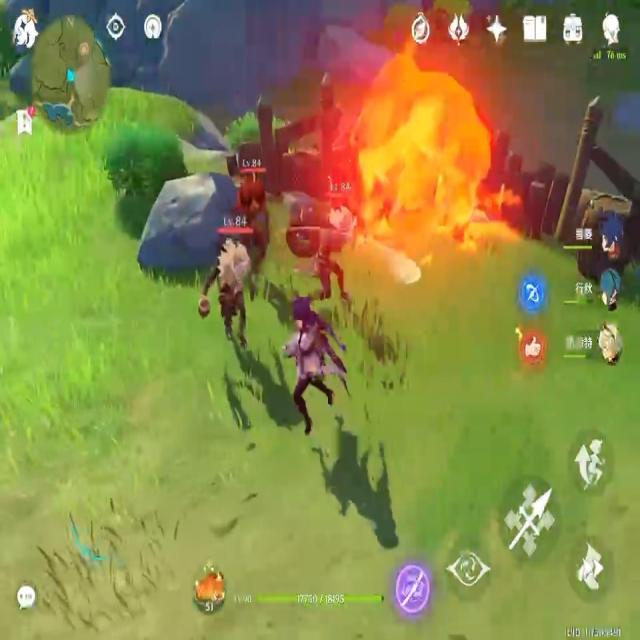genshin-hilichurls: (203, 235, 254, 350), (308, 188, 352, 313), (238, 151, 274, 236)
